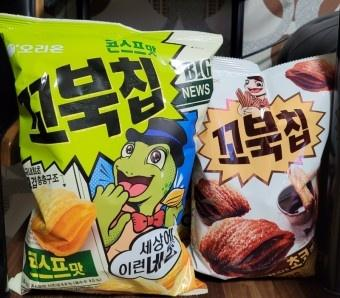snack: (0, 12, 223, 297)
